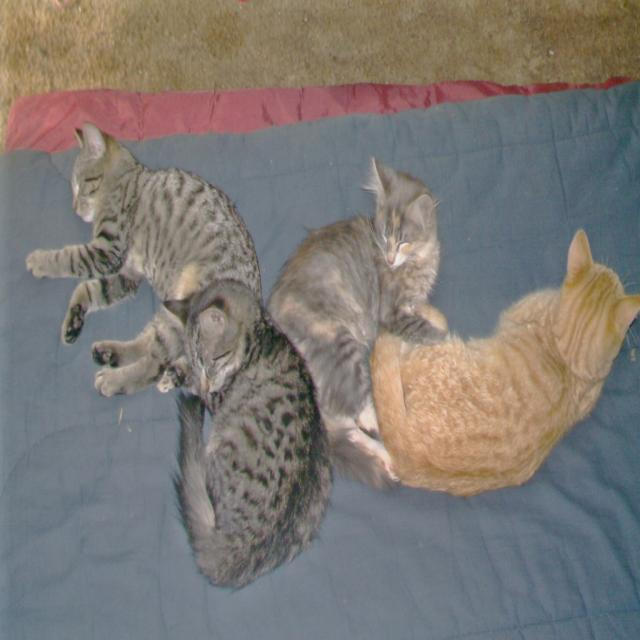Cat: (364, 228, 639, 501), (25, 128, 264, 400), (267, 158, 449, 485), (168, 273, 330, 600)
